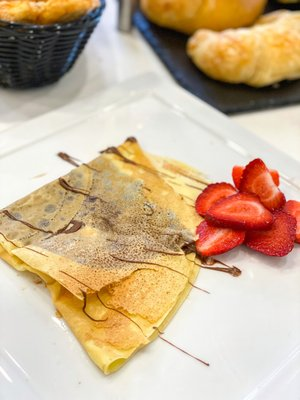soup: (0, 136, 206, 374)
sushi: (0, 0, 107, 90)
